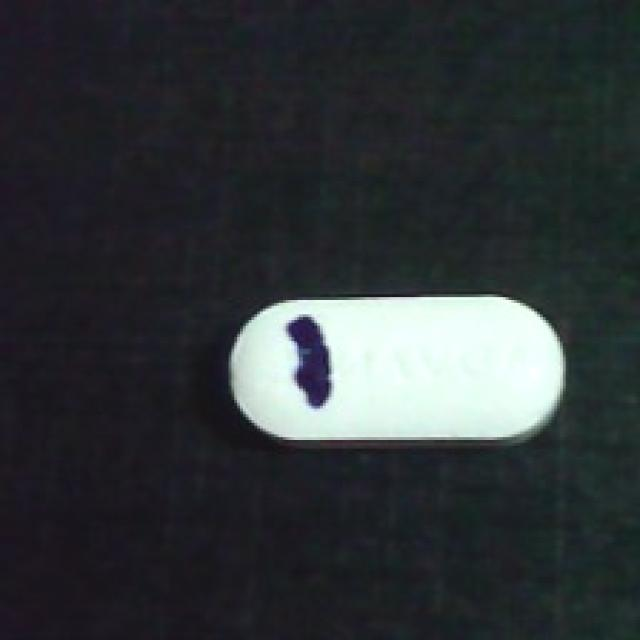defected: (217, 294, 571, 454)
